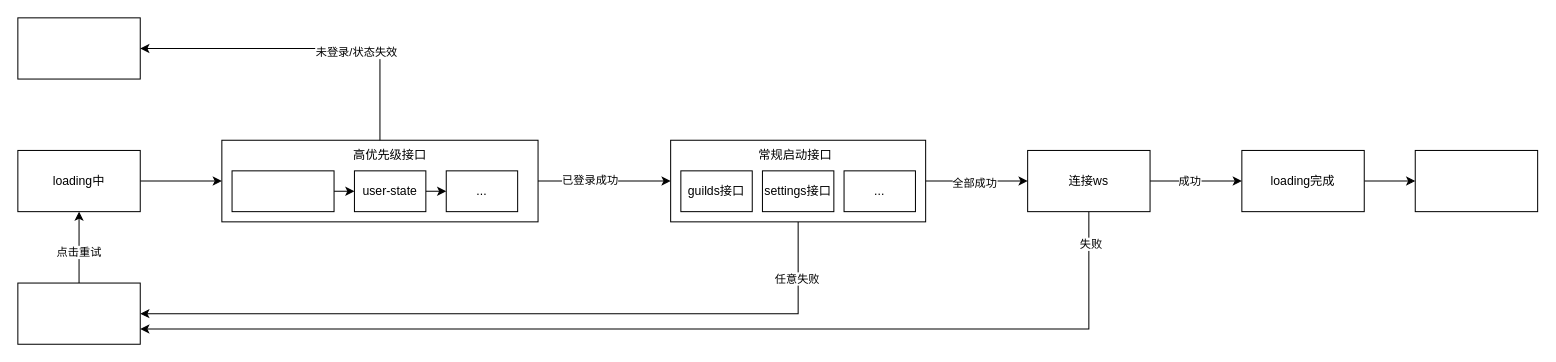
Some shapes in this 1556 by 362 pixel diagram are drawn without their labels. Each missing label, with the centre of its shape:
getDeviceHeader: point (282, 191)
loading失败: point (78, 313)
低优先级接口: point (1476, 180)
登录页: point (78, 48)
